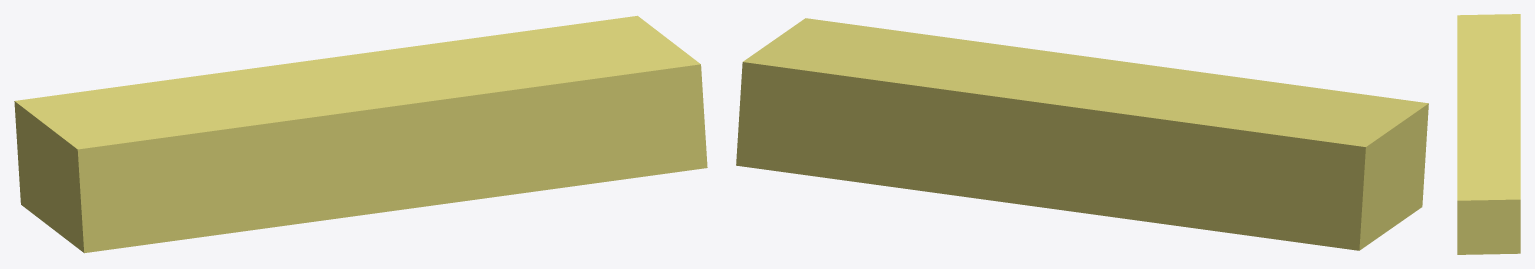
File: PAPAcruda1.fbx
The picture shows the model from 3 angles, left to right: view 1: azimuth 30°, elevation 25°; view 2: azimuth 150°, elevation 25°; view 3: azimuth 270°, elevation 25°; orthographic projection. The views are drawn at different scales.
Visible parts, largest first — view 1: Cube; view 2: Cube; view 3: Cube.
Boxes of the visible parts, <box> form: Cube: <box>14,15,707,253</box>; Cube: <box>736,18,1428,250</box>; Cube: <box>1457,14,1520,254</box>.
Bounding box in the file's own units: 204 × 53.91 × 35.34.
